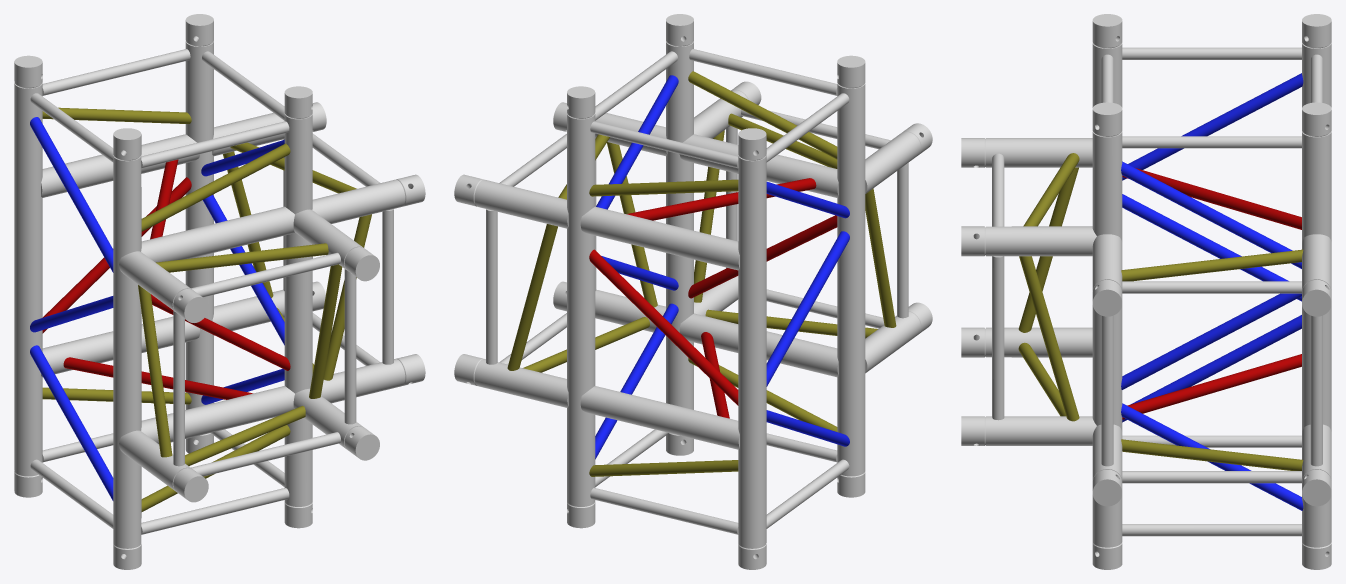
3 views of the same model, side by side, from view 1: azimuth 30°, elevation 25°; view 2: azimuth 150°, elevation 25°; view 3: azimuth 270°, elevation 25° (orthographic). The views are drawn at different scales.
Parts seen in each view (by area): view 1: 260028383; view 2: 260028383; view 3: 260028383.
Part boxes in pixels (box(x1,y1,x2,y2)): 260028383: box(14, 14, 425, 569); 260028383: box(454, 14, 932, 569); 260028383: box(961, 14, 1331, 569).
Size of the model in its own units: 0.6002 by 0.813 by 0.6001.
